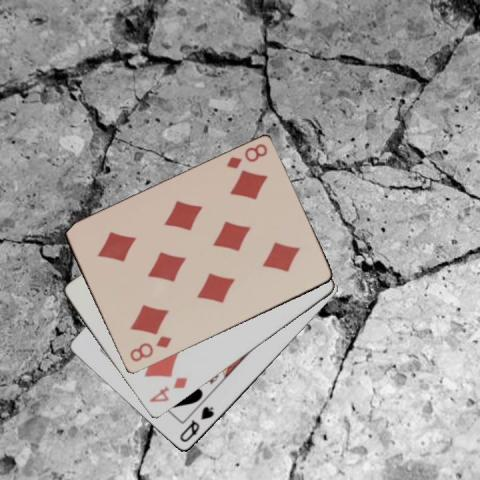4d: (146, 374, 189, 404)
8d: (127, 333, 173, 364), (223, 140, 269, 170)
Qs: (177, 403, 215, 444)
